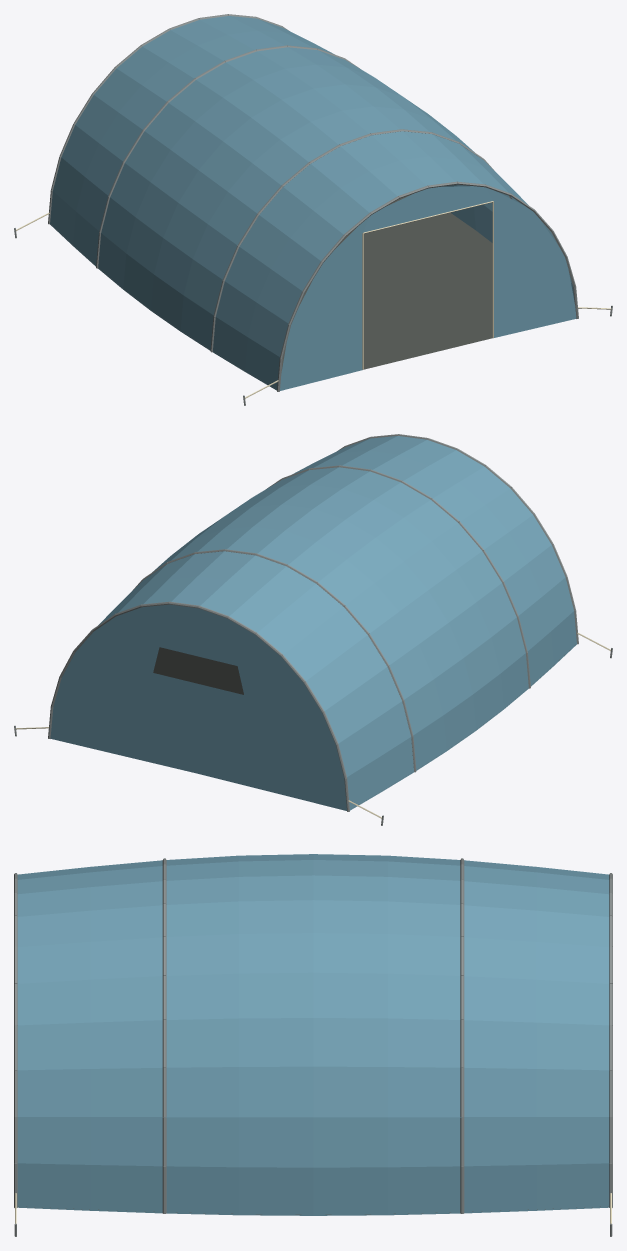
Rendered from Tent_Dome_Family.fbx.
The picture shows the model from 3 angles, top to bottom: view 1: azimuth 30°, elevation 25°; view 2: azimuth 150°, elevation 25°; view 3: azimuth 270°, elevation 25°; orthographic projection. The views are drawn at different scales.
Parts seen in each view (by area): view 1: Tent_Dome_Family_Geometry; view 2: Tent_Dome_Family_Geometry; view 3: Tent_Dome_Family_Geometry.
Boxes of the visible parts, x1=… form: Tent_Dome_Family_Geometry: x1=14, y1=14, x2=612, y2=405; Tent_Dome_Family_Geometry: x1=14, y1=434, x2=612, y2=825; Tent_Dome_Family_Geometry: x1=14, y1=854, x2=612, y2=1236.
Size of the model in its own units: 466 by 227 by 503.
